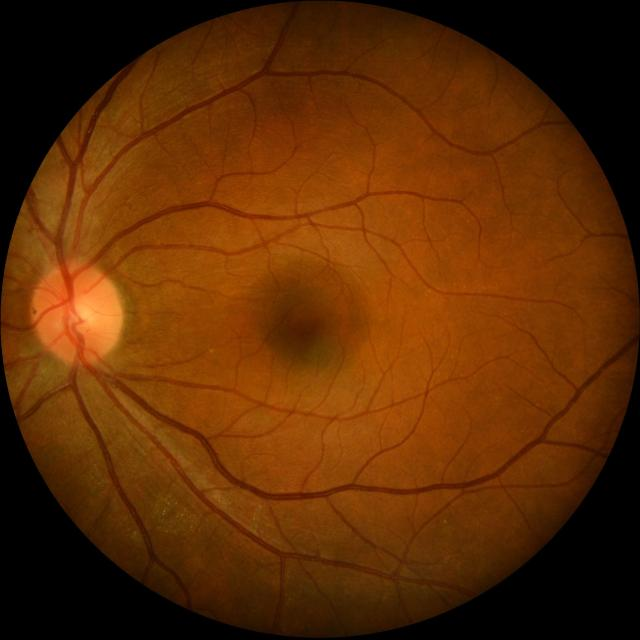OC: (60, 294, 98, 334)
OD: (32, 262, 122, 365)
